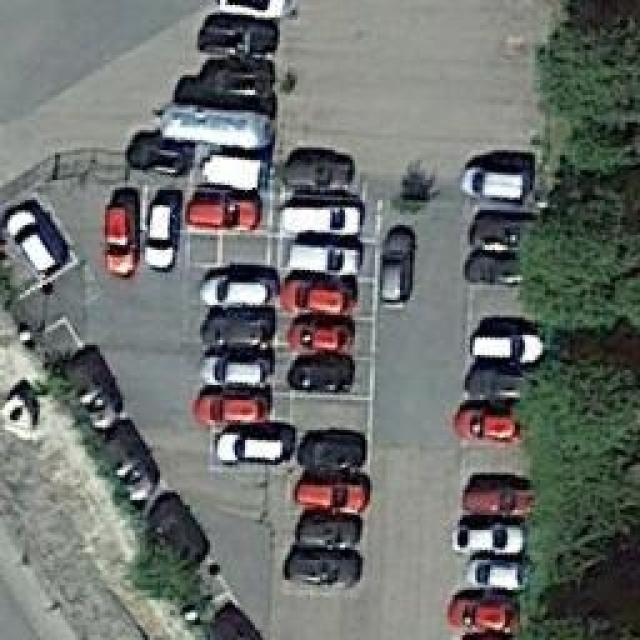Forest: (508, 0, 638, 638)
Parking: (0, 0, 638, 638)
